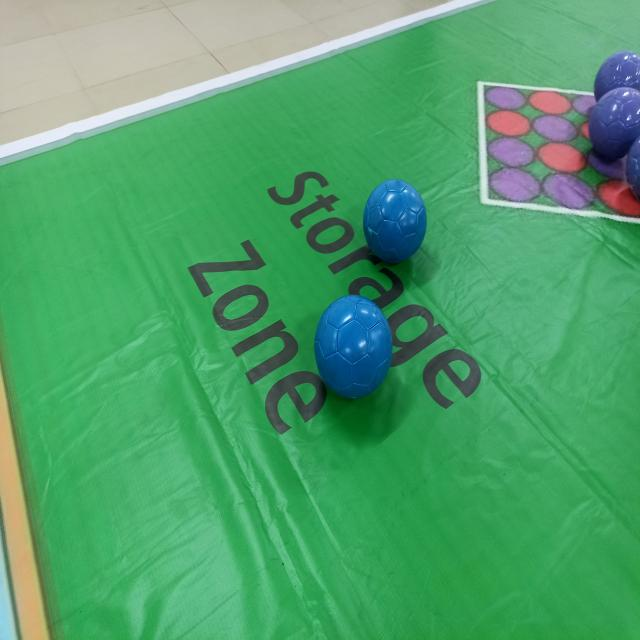blue_ball: (318, 296, 391, 400), (367, 180, 424, 266)
purple_ball: (592, 86, 640, 163), (592, 49, 640, 103), (625, 132, 640, 200)
